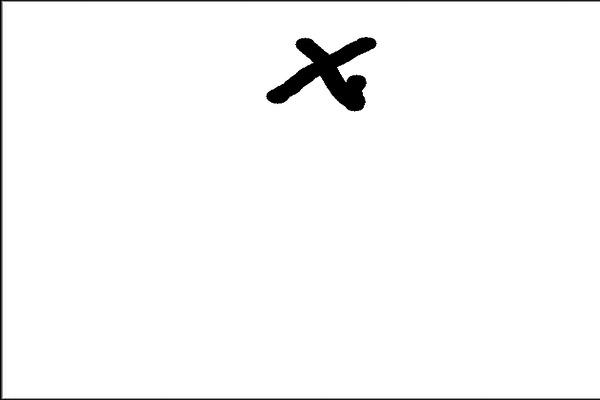X: (252, 22, 410, 130)
